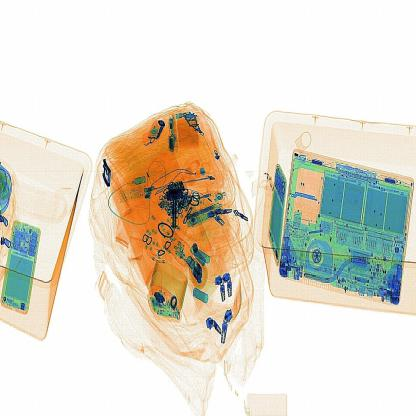scissors: (163, 192, 181, 235)
